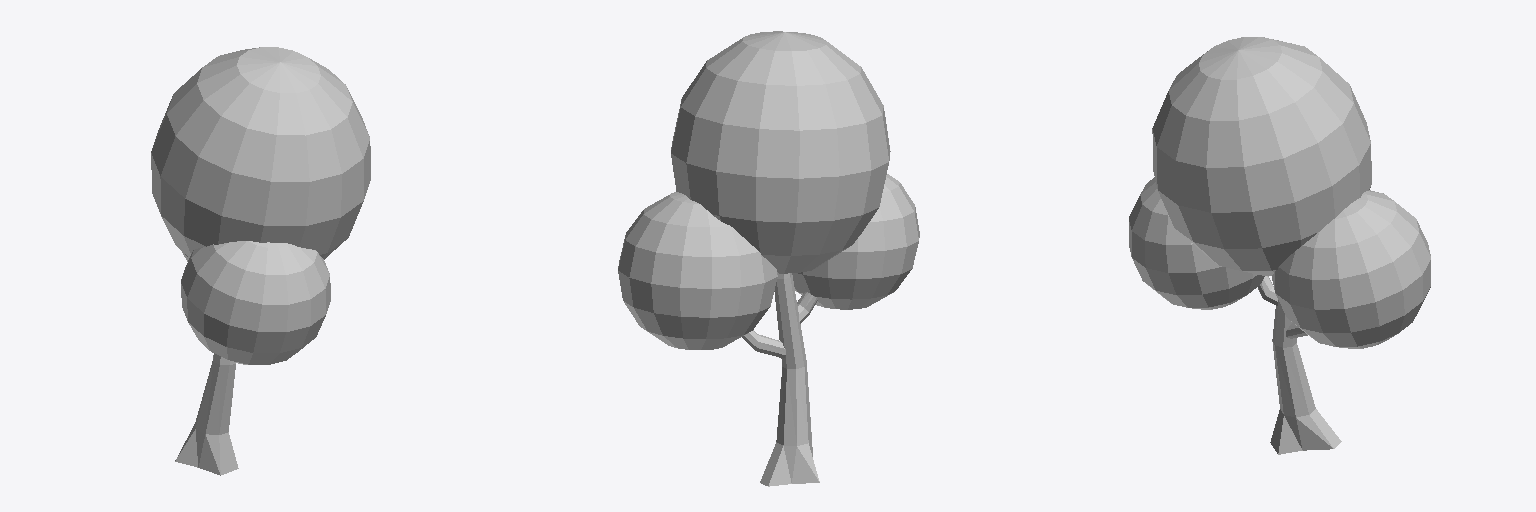
Rendered from arbol1.obj.
The picture shows the model from 3 angles: view 1: azimuth 30°, elevation 25°; view 2: azimuth 150°, elevation 25°; view 3: azimuth 270°, elevation 25°; orthographic projection.
Visible parts, largest first — view 1: Circle.005_Birch_tree_0; view 2: Circle.005_Birch_tree_0; view 3: Circle.005_Birch_tree_0.
Part boxes in pixels (x1,y1,x2,y2): Circle.005_Birch_tree_0: (151, 47, 370, 475); Circle.005_Birch_tree_0: (618, 31, 919, 486); Circle.005_Birch_tree_0: (1129, 37, 1430, 454).
Size of the model in its own units: 2.54 by 4.86 by 3.21.